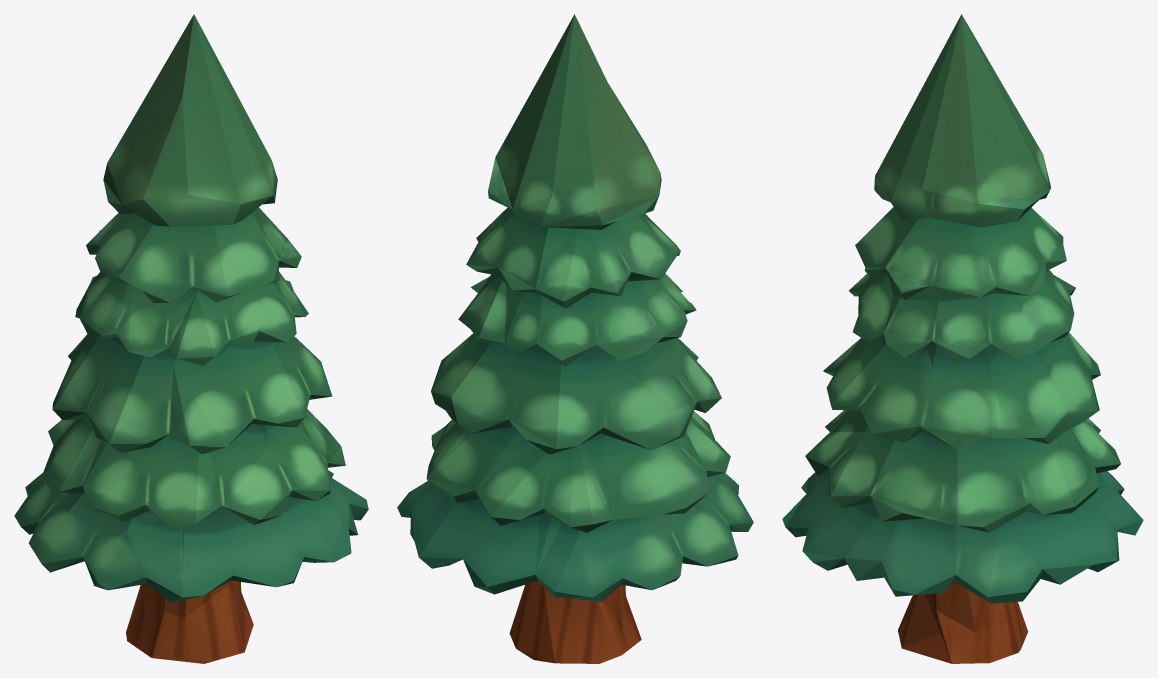
The model's file is pine.glb.
The picture shows the model from 3 angles, left to right: view 1: azimuth 30°, elevation 25°; view 2: azimuth 150°, elevation 25°; view 3: azimuth 270°, elevation 25°; orthographic projection.
Bounding box in the file's own units: 0.9785 × 1.9 × 0.9812.
Materials: 1 (1 with a texture image).
